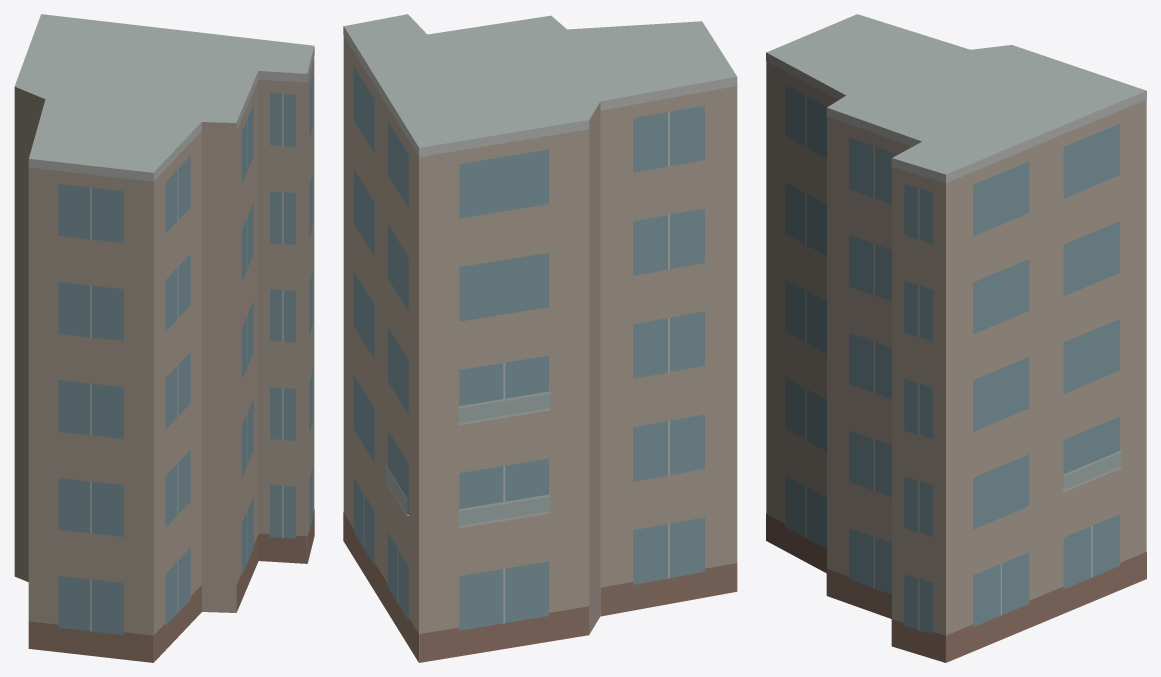
File: survey-upis-32736308.glb
The picture shows the model from 3 angles, left to right: view 1: azimuth 30°, elevation 25°; view 2: azimuth 150°, elevation 25°; view 3: azimuth 270°, elevation 25°; orthographic projection. The views are drawn at different scales.
Parts seen in each view (by area): view 1: survey-upis-32736308.tmp; view 2: survey-upis-32736308.tmp; view 3: survey-upis-32736308.tmp.
Boxes of the visible parts, bbox=[...] form: survey-upis-32736308.tmp: bbox=[14, 14, 314, 662]; survey-upis-32736308.tmp: bbox=[343, 14, 737, 662]; survey-upis-32736308.tmp: bbox=[766, 14, 1146, 662].
Bounding box in the file's own units: 9.6 × 13.6 × 9.61.
